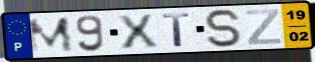9: (75, 14, 106, 53)
M: (26, 15, 76, 55)
S: (202, 8, 245, 49)
T: (160, 12, 193, 48)
X: (115, 13, 161, 51)
Z: (243, 8, 283, 46)
